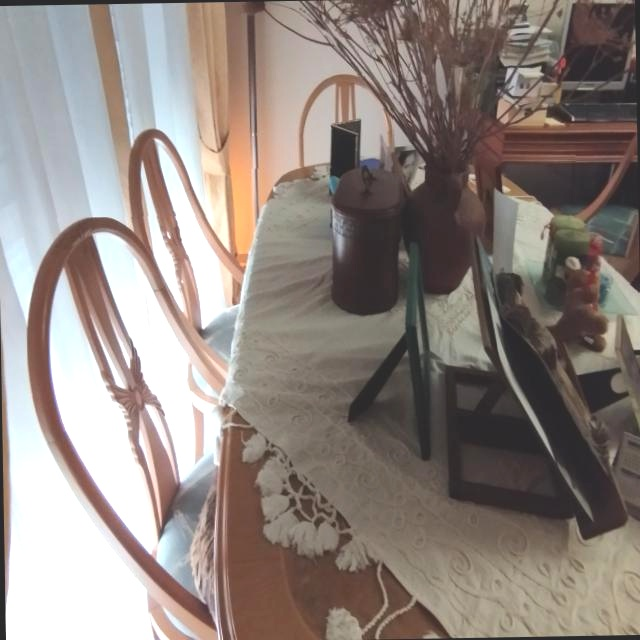chair: (27, 218, 227, 639), (128, 129, 243, 379), (577, 152, 639, 283), (298, 74, 364, 166), (383, 108, 393, 148)
monitor: (562, 0, 635, 90)
stove: (202, 167, 640, 640), (502, 122, 637, 163)
